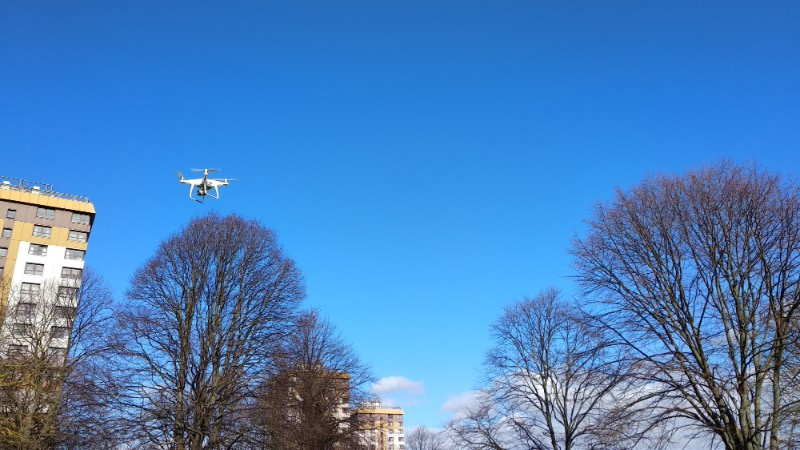drone: (175, 165, 236, 205)
